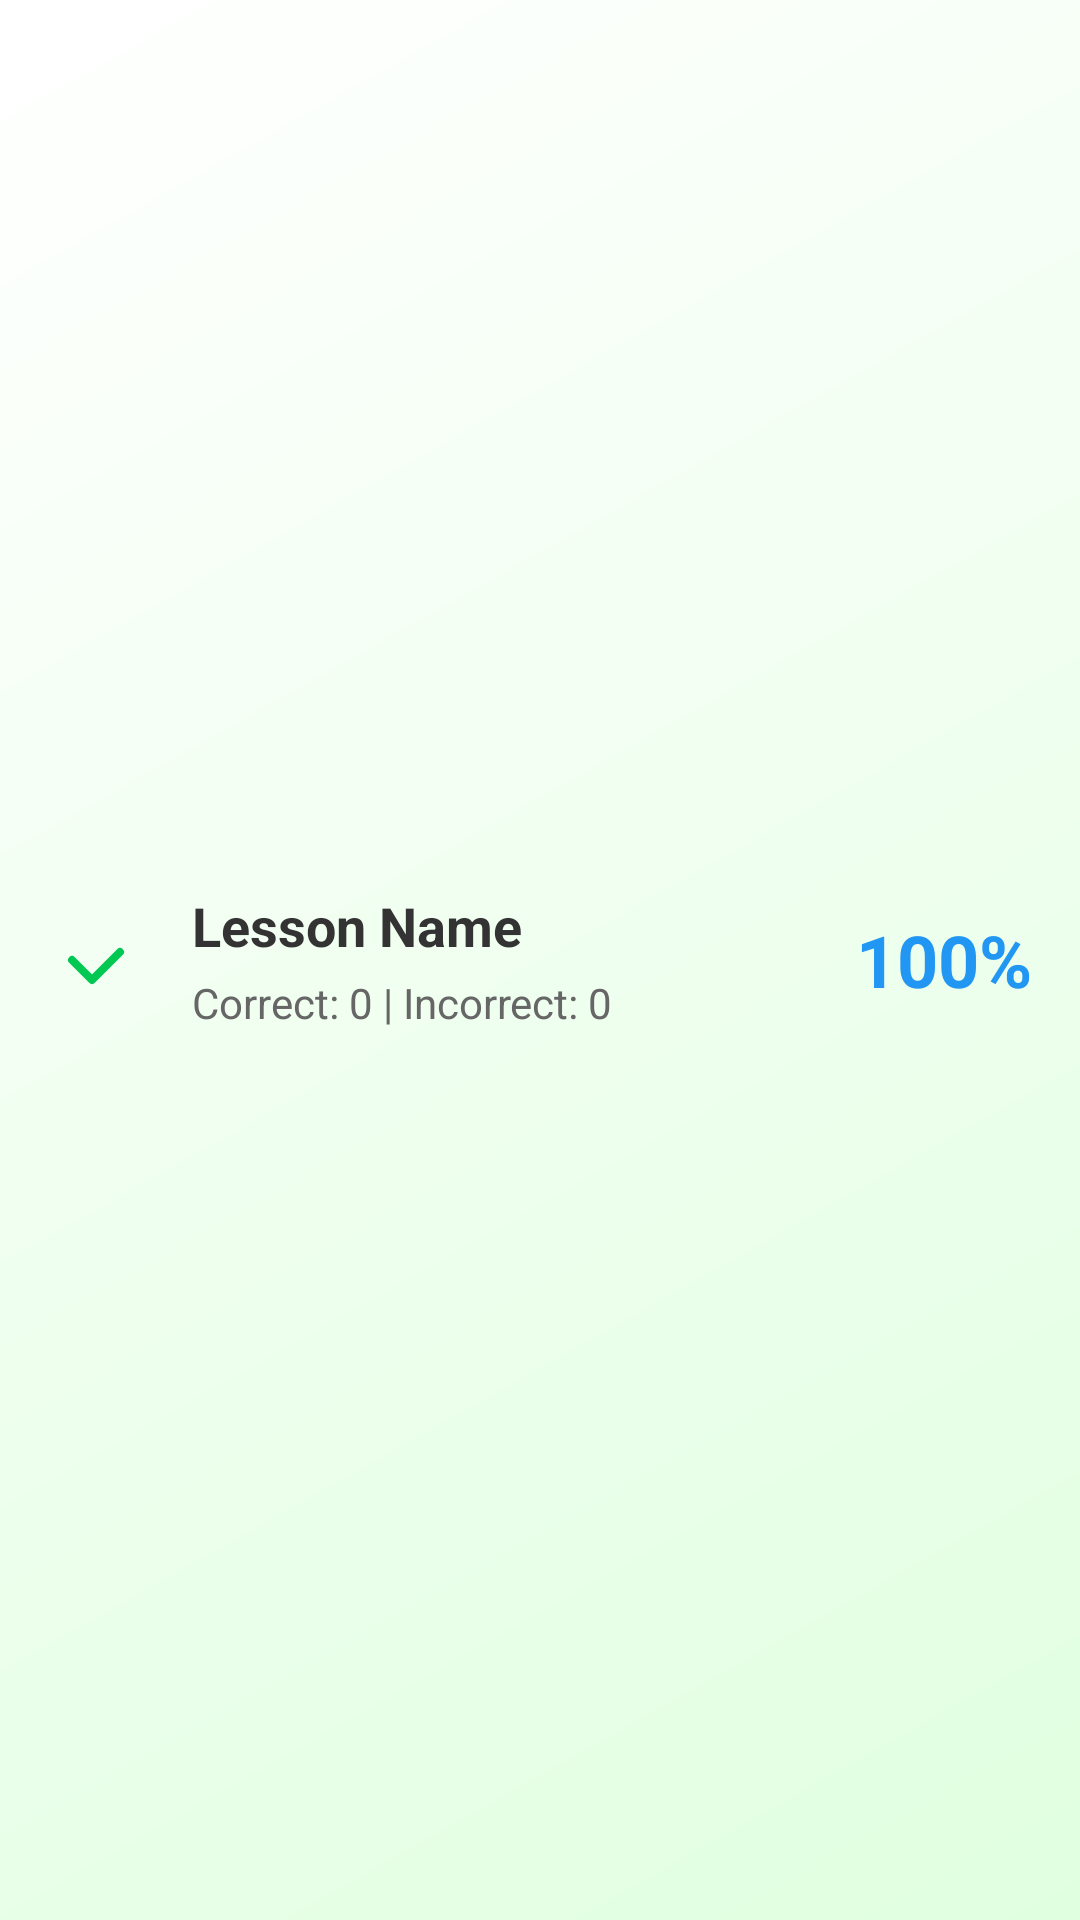

Where icons sit on this 1080x1920 app screen, as {"left": x1, "top": y1, "right": x2, "bottom": y2}:
Status Icon: {"left": 67, "top": 947, "right": 124, "bottom": 984}
